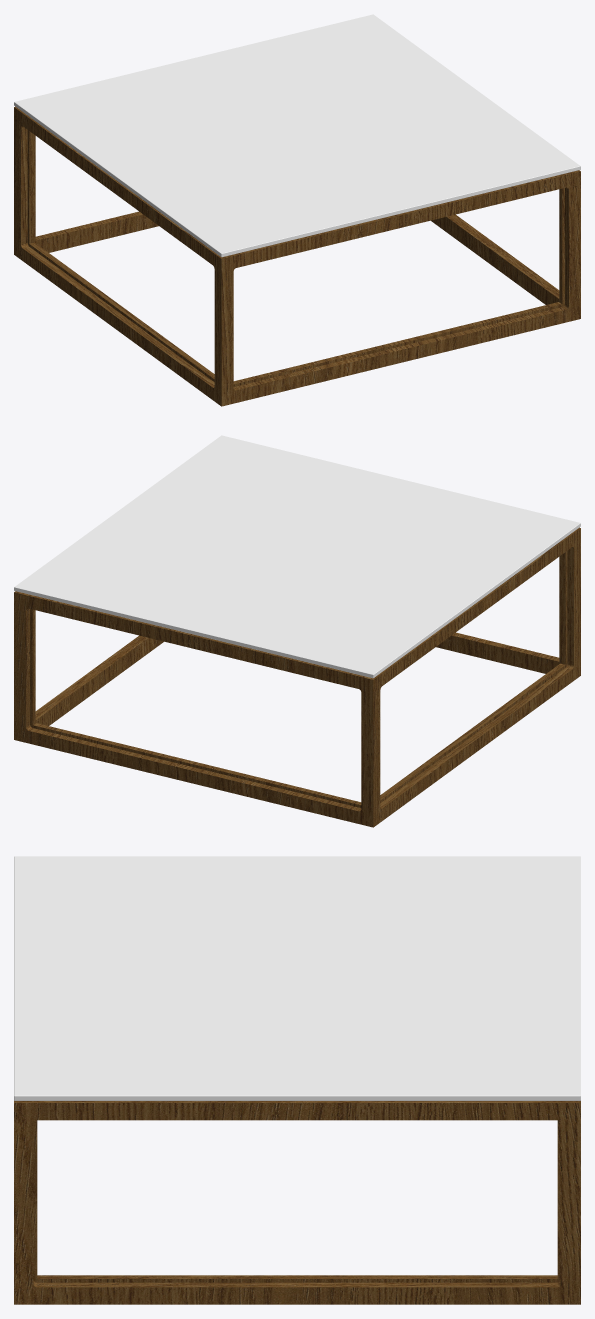
3 views of the same model, one above another, from view 1: azimuth 30°, elevation 25°; view 2: azimuth 150°, elevation 25°; view 3: azimuth 270°, elevation 25° (orthographic). The views are drawn at different scales.
Parts seen in each view (by area): view 1: DirectCon0, DirectCon1; view 2: DirectCon0, DirectCon1; view 3: DirectCon0, DirectCon1.
Boxes of the visible parts, x1,y1,x2,y2 form: DirectCon0: [14, 14, 580, 257]; DirectCon1: [14, 106, 580, 406]; DirectCon0: [14, 435, 580, 678]; DirectCon1: [14, 527, 580, 827]; DirectCon0: [14, 856, 580, 1100]; DirectCon1: [14, 1101, 580, 1304].
Bounding box in the file's own units: 31.5 × 31.5 × 12.8.
2 materials, 1 textured.
